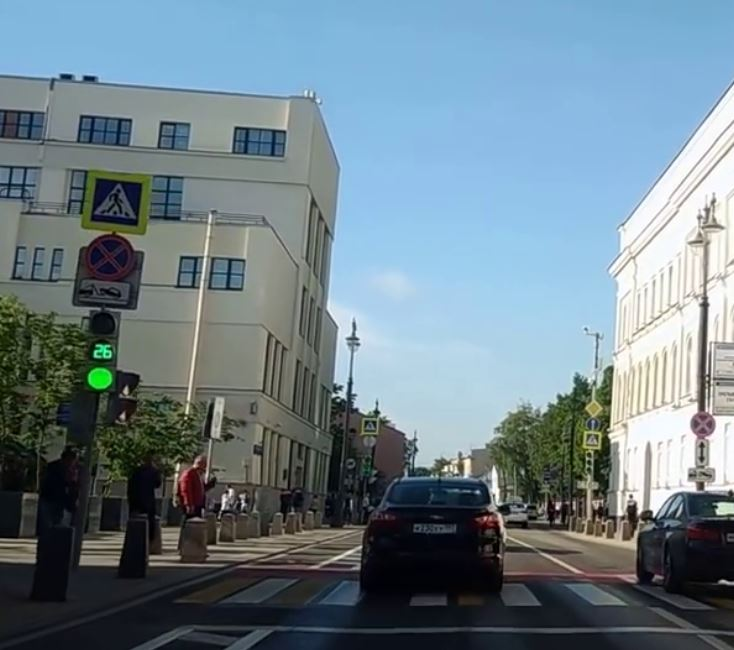Yaya Gecidi: (90, 175, 141, 225)
